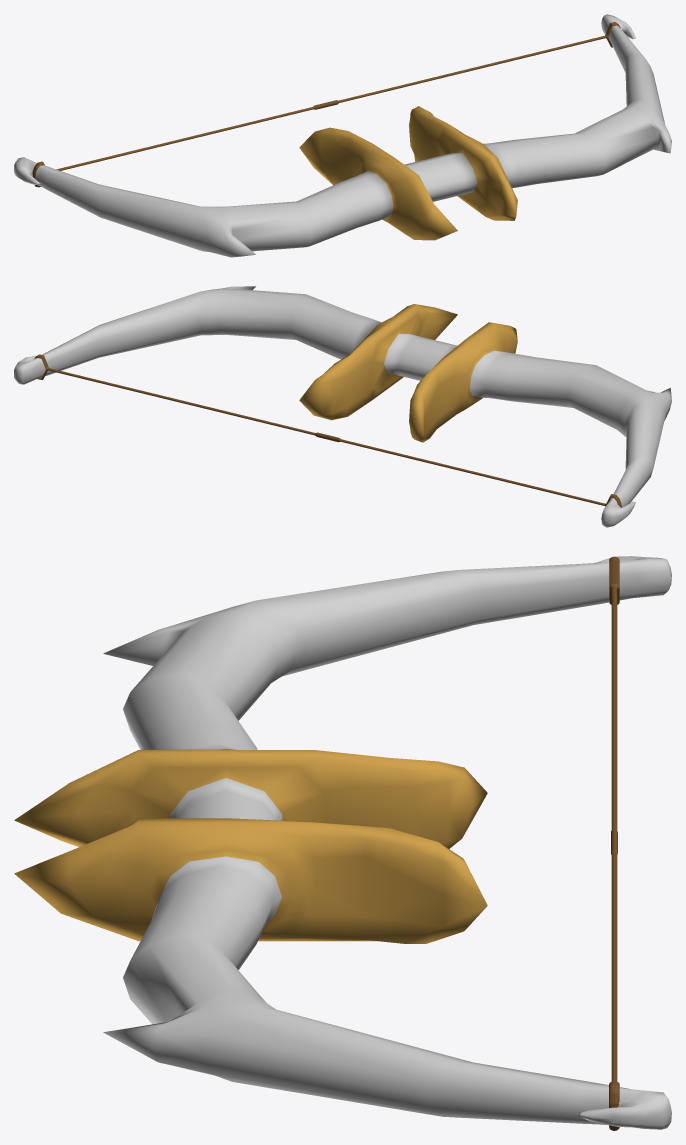
The model's file is Arco.obj.
The picture shows the model from 3 angles, top to bottom: view 1: azimuth 30°, elevation 25°; view 2: azimuth 150°, elevation 25°; view 3: azimuth 270°, elevation 25°; orthographic projection. The views are drawn at different scales.
Visible parts, largest first — view 1: Cilindro; view 2: Cilindro; view 3: Cilindro.
Part boxes in pixels (x1,y1,x2,y2): Cilindro: (14,14,671,257); Cilindro: (14,286,671,527); Cilindro: (14,556,671,1130).
Bounding box in the file's own units: 1 × 0.1 × 0.5.
